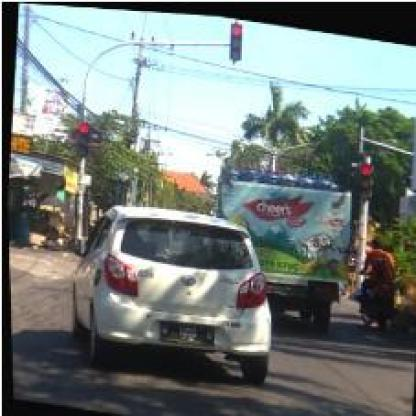red: (70, 119, 88, 156), (356, 156, 373, 192), (229, 19, 244, 58)
